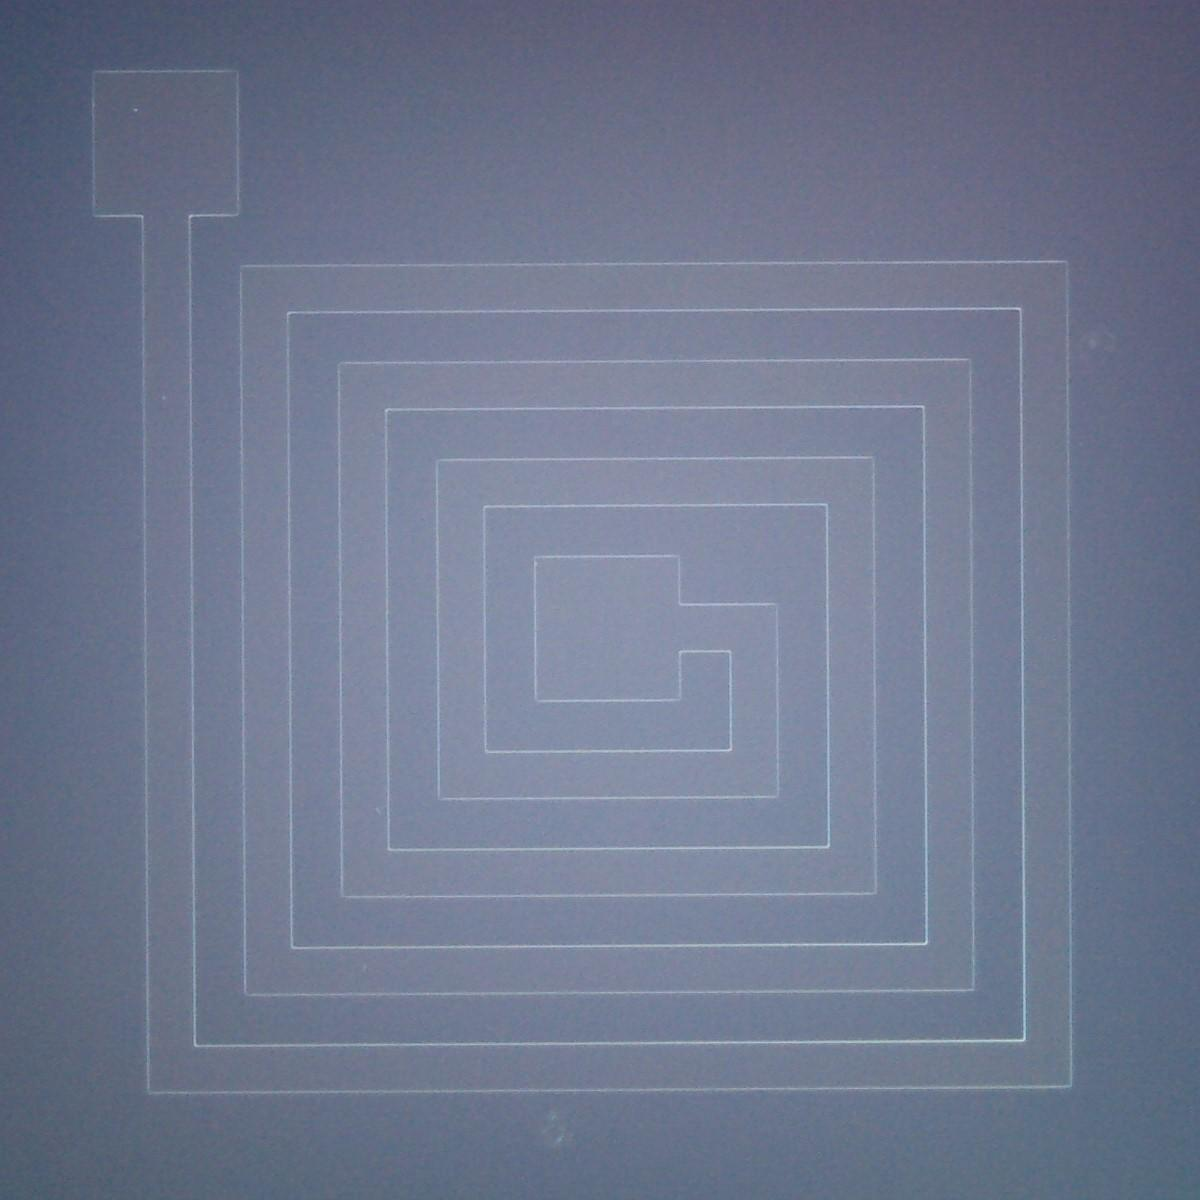B_point: (551, 1133, 566, 1147)
s_point: (156, 390, 171, 405), (127, 103, 143, 118)
